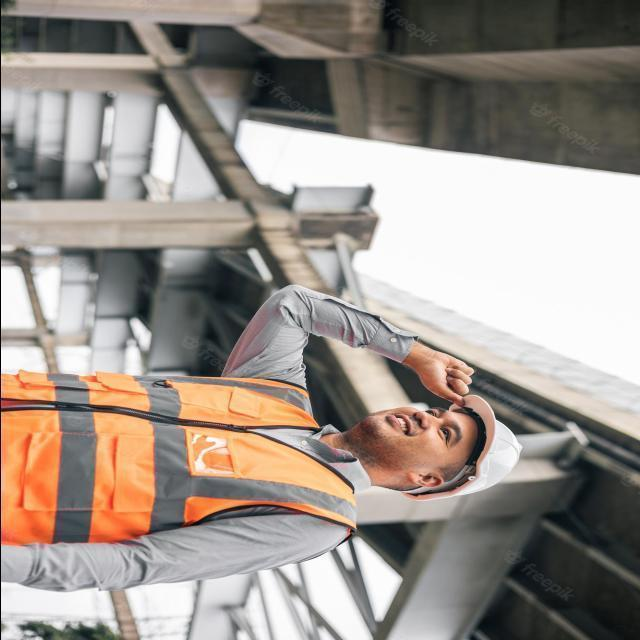white helmet: (407, 392, 529, 501)
